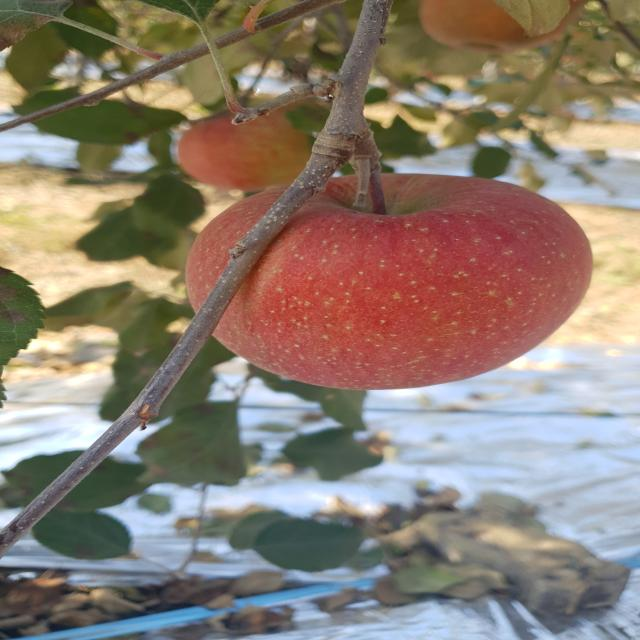fresh: (174, 159, 613, 400)
